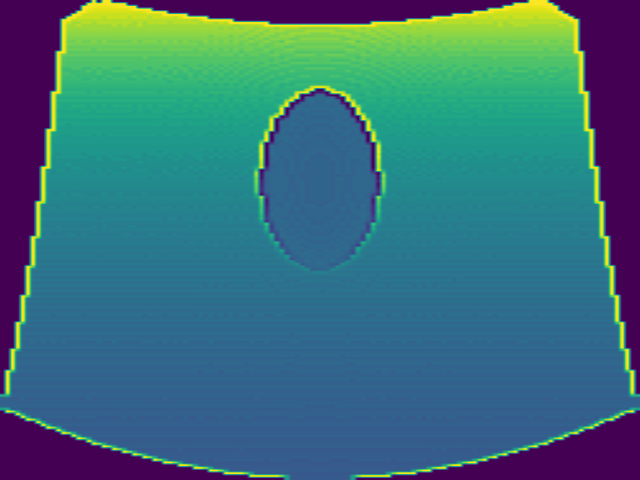sphere: (253, 85, 384, 275)
